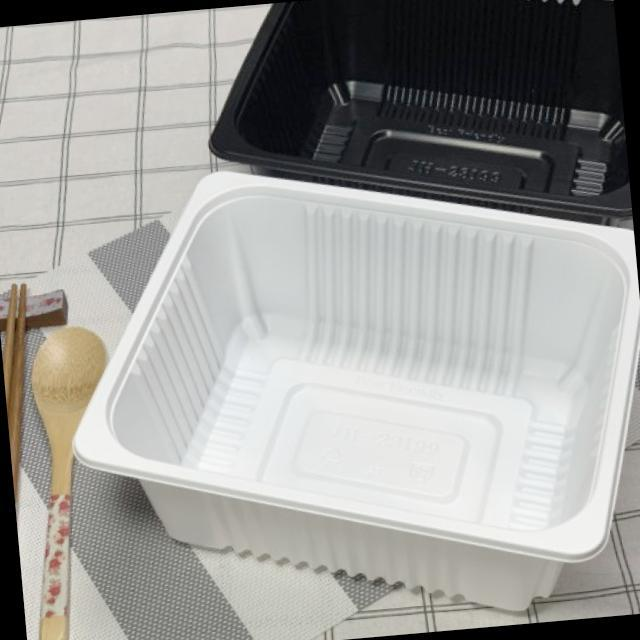container: (41, 158, 640, 618)
